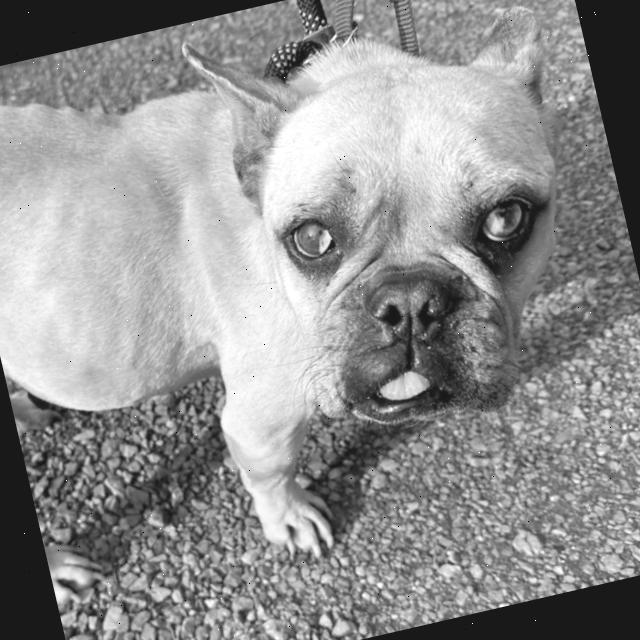french_bulldog_dog: (158, 0, 634, 473)
